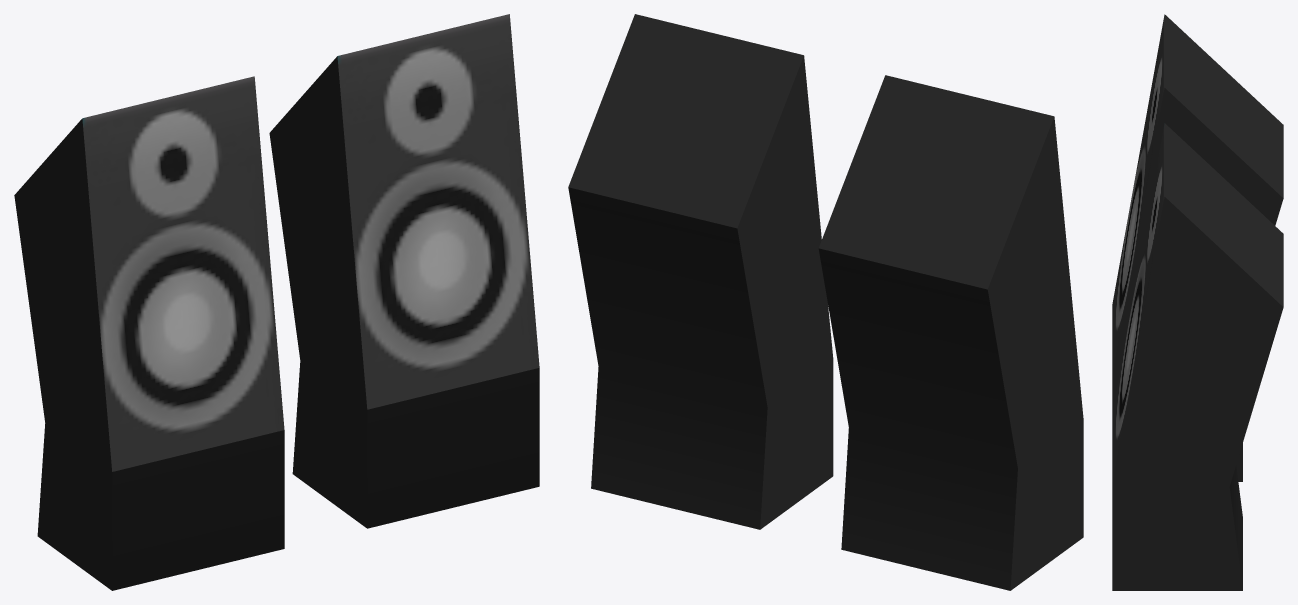
Rendered from ComputerSpeakers.fbx.
3 renders of one model, left to right at view 1: azimuth 30°, elevation 25°; view 2: azimuth 150°, elevation 25°; view 3: azimuth 270°, elevation 25°, orthographic. The views are drawn at different scales.
Parts seen in each view (by area): view 1: Maya_File_Assets:TexturedAssetsCurrent:computer_speakers_01; view 2: Maya_File_Assets:TexturedAssetsCurrent:computer_speakers_01; view 3: Maya_File_Assets:TexturedAssetsCurrent:computer_speakers_01.
Boxes of the visible parts, <box> form: Maya_File_Assets:TexturedAssetsCurrent:computer_speakers_01: <box>14,14,539,590</box>; Maya_File_Assets:TexturedAssetsCurrent:computer_speakers_01: <box>568,14,1083,590</box>; Maya_File_Assets:TexturedAssetsCurrent:computer_speakers_01: <box>1112,14,1283,590</box>.
Size of the model in its own units: 0.321 by 0.3236 by 0.1273.
